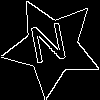N: (27, 21, 71, 74)
